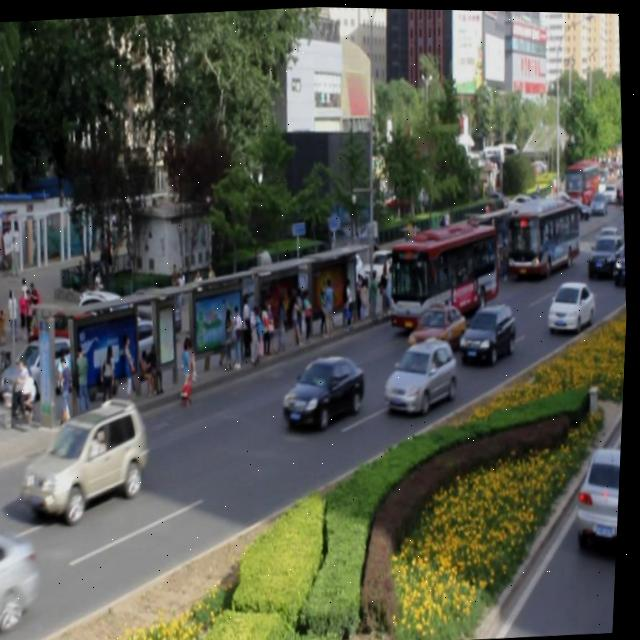car: (20, 394, 157, 523), (281, 348, 370, 431), (0, 515, 52, 640), (381, 334, 462, 414), (457, 297, 519, 362), (407, 298, 470, 353), (545, 276, 598, 330), (587, 228, 629, 277)
van: (386, 214, 503, 326), (502, 186, 582, 268)
